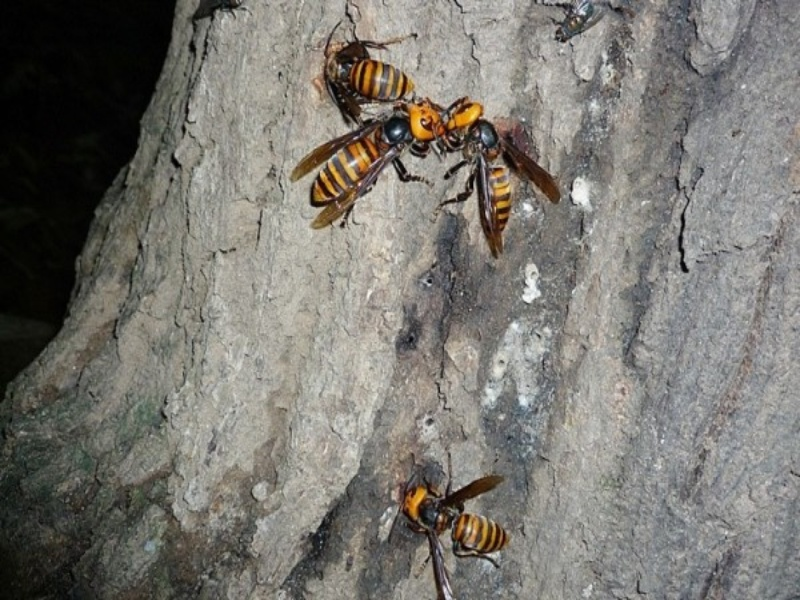asian_giant_hornet: (444, 84, 565, 256), (385, 462, 513, 600), (308, 96, 447, 220), (321, 21, 420, 105)
